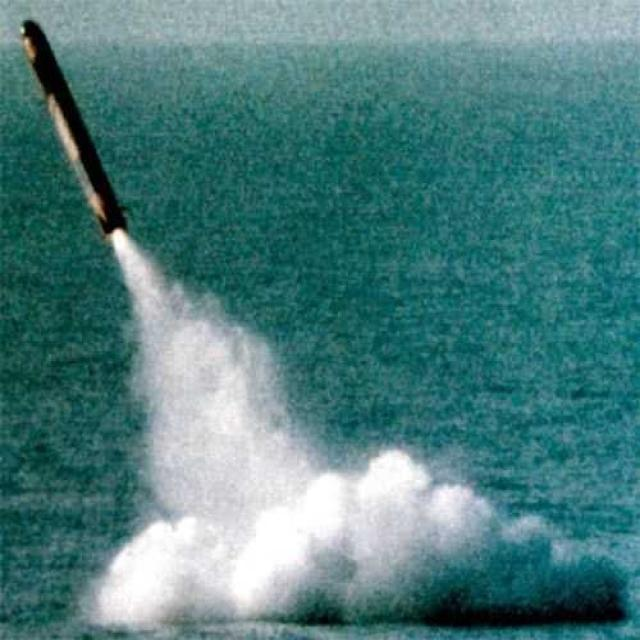missile: (15, 16, 134, 236)
